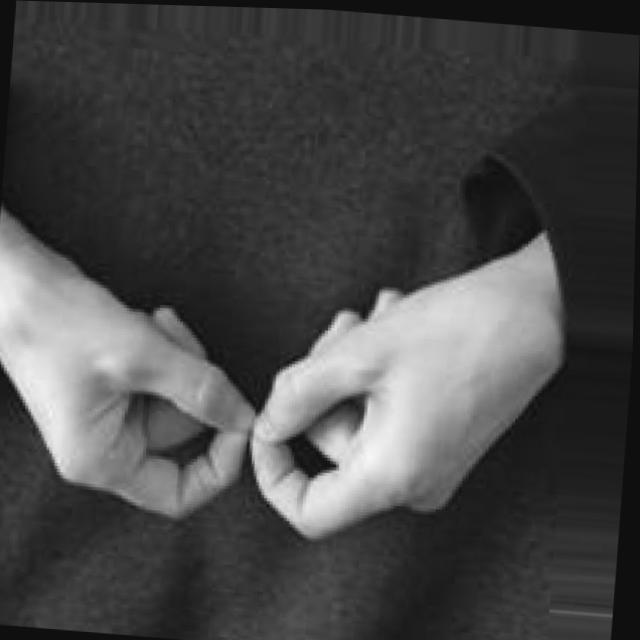B: (0, 191, 545, 561)
